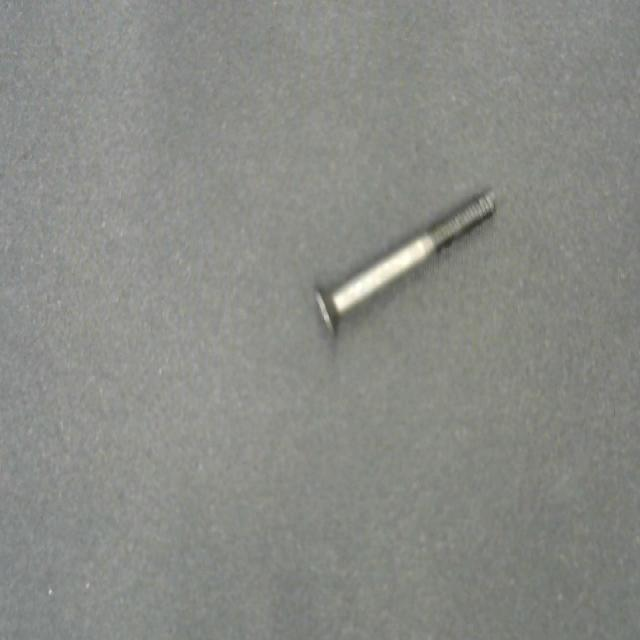FlatHeadSocketScrew: (313, 182, 497, 338)
